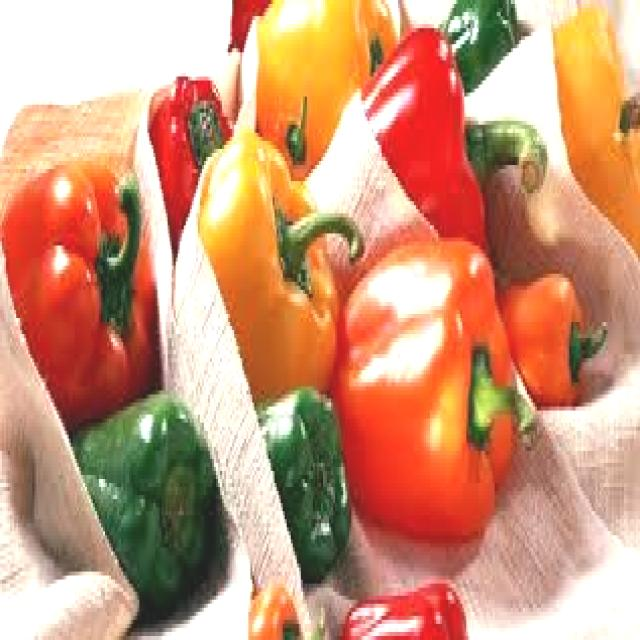carrot: (326, 234, 528, 562), (191, 121, 351, 399), (0, 142, 156, 422), (357, 21, 519, 258), (68, 374, 221, 613), (242, 0, 394, 193), (242, 372, 354, 588), (551, 0, 640, 258), (498, 248, 614, 433), (138, 60, 234, 228), (338, 562, 480, 640), (434, 0, 526, 93), (248, 572, 313, 640)
